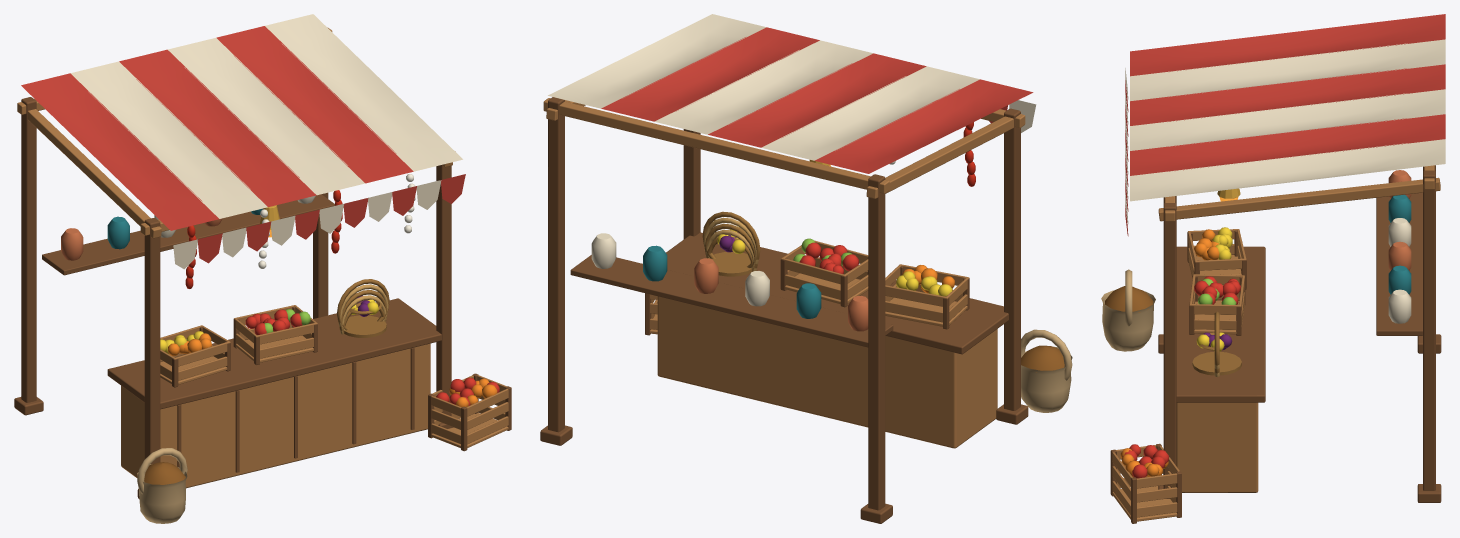
The model's file is mk_stall_fruit.glb.
3 renders of one model, left to right at view 1: azimuth 30°, elevation 25°; view 2: azimuth 150°, elevation 25°; view 3: azimuth 270°, elevation 25°, orthographic. The views are drawn at different scales.
Parts seen in each view (by area): view 1: mk_stall_fruit_body; view 2: mk_stall_fruit_body; view 3: mk_stall_fruit_body.
Boxes of the visible parts, x1,y1,x2,y2 form: mk_stall_fruit_body: (14, 14, 511, 523); mk_stall_fruit_body: (540, 14, 1072, 523); mk_stall_fruit_body: (1101, 14, 1445, 523).
Bounding box in the file's own units: 3.87 × 3.14 × 2.92.
